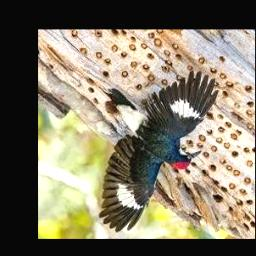Woodpecker: (99, 71, 219, 232)
